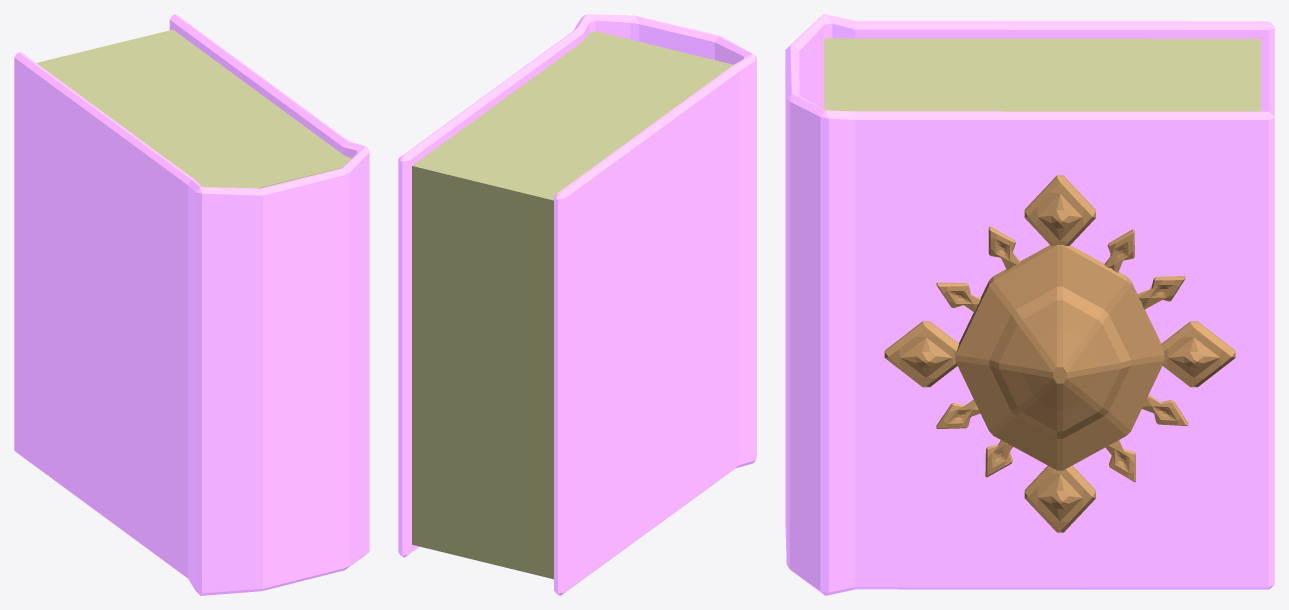
File: FinalBook.fbx
3 views of the same model, side by side, from view 1: azimuth 30°, elevation 25°; view 2: azimuth 150°, elevation 25°; view 3: azimuth 270°, elevation 25° (orthographic). The views are drawn at different scales.
Parts seen in each view (by area): view 1: Cylinder; view 2: Cylinder; view 3: Cylinder.
Part boxes in pixels (<box>): Cylinder: <box>14,14,369,595</box>; Cylinder: <box>398,14,756,595</box>; Cylinder: <box>785,14,1274,595</box>.
Size of the model in its own units: 163 by 305 by 279.
